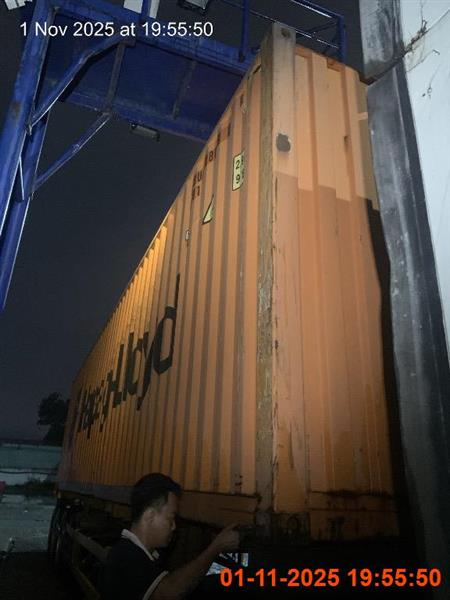bent: (45, 7, 447, 591), (98, 472, 245, 599)
